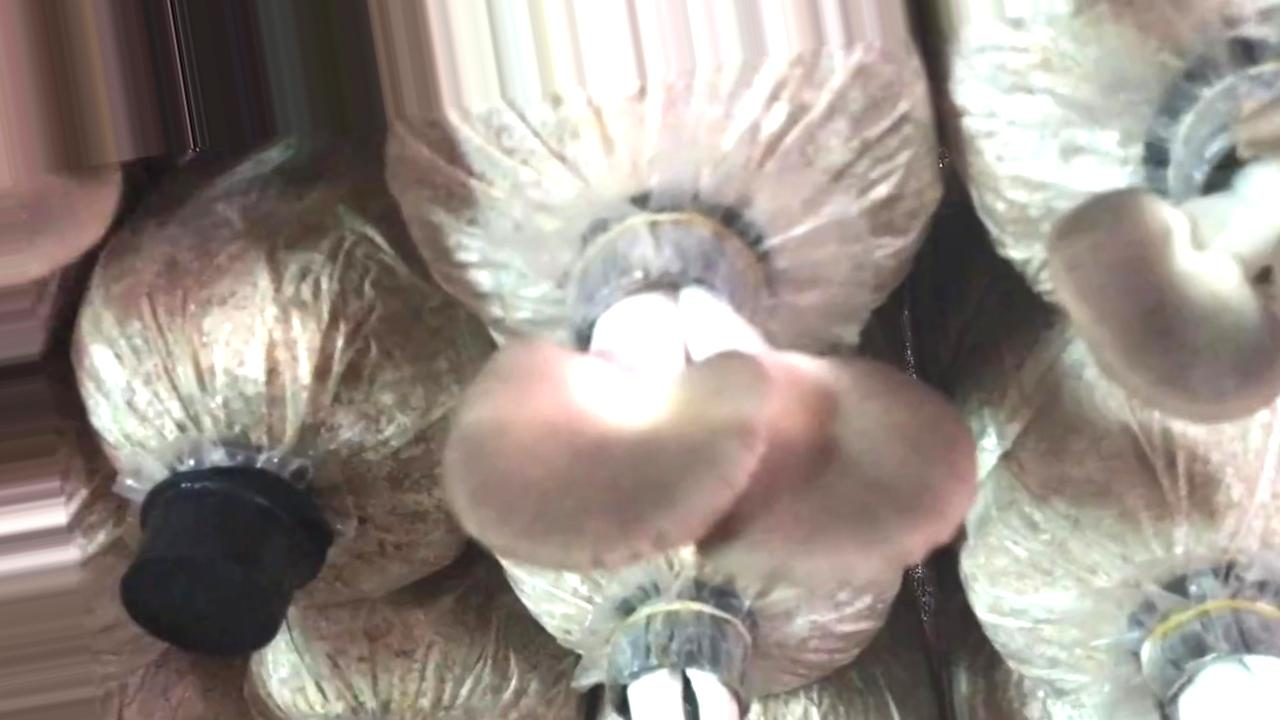nam: (438, 195, 985, 595), (1048, 81, 1280, 426)
